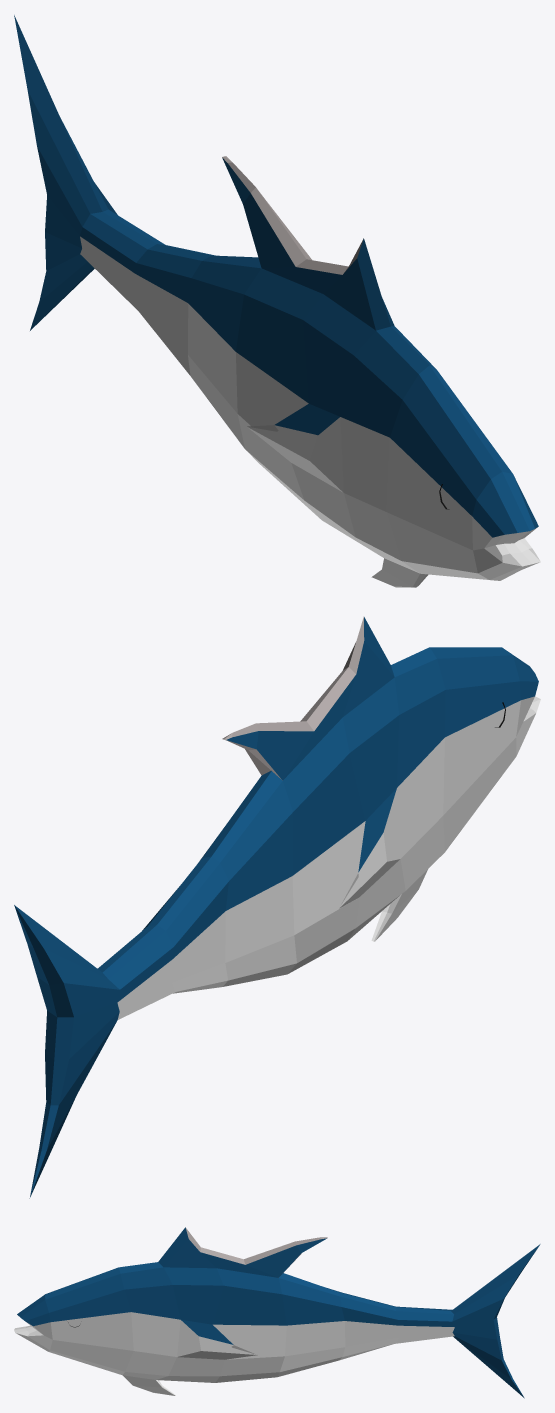
Rendered from Ikan Tuna.fbx.
3 renders of one model, top to bottom at view 1: azimuth 30°, elevation 25°; view 2: azimuth 150°, elevation 25°; view 3: azimuth 270°, elevation 25°, orthographic. The views are drawn at different scales.
Parts seen in each view (by area): view 1: Ikan Tuna; view 2: Ikan Tuna; view 3: Ikan Tuna.
Part boxes in pixels (x1,y1,x2,y2): Ikan Tuna: (14, 15, 540, 587); Ikan Tuna: (14, 616, 540, 1198); Ikan Tuna: (14, 1227, 540, 1398).
Size of the model in its own units: 216 by 755 by 2100.
